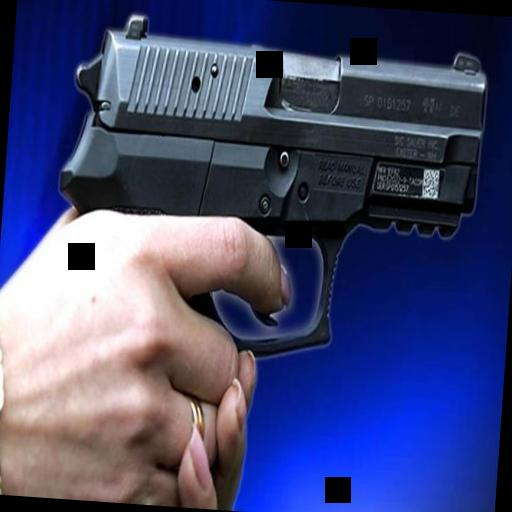Handgun: (36, 8, 488, 374)
